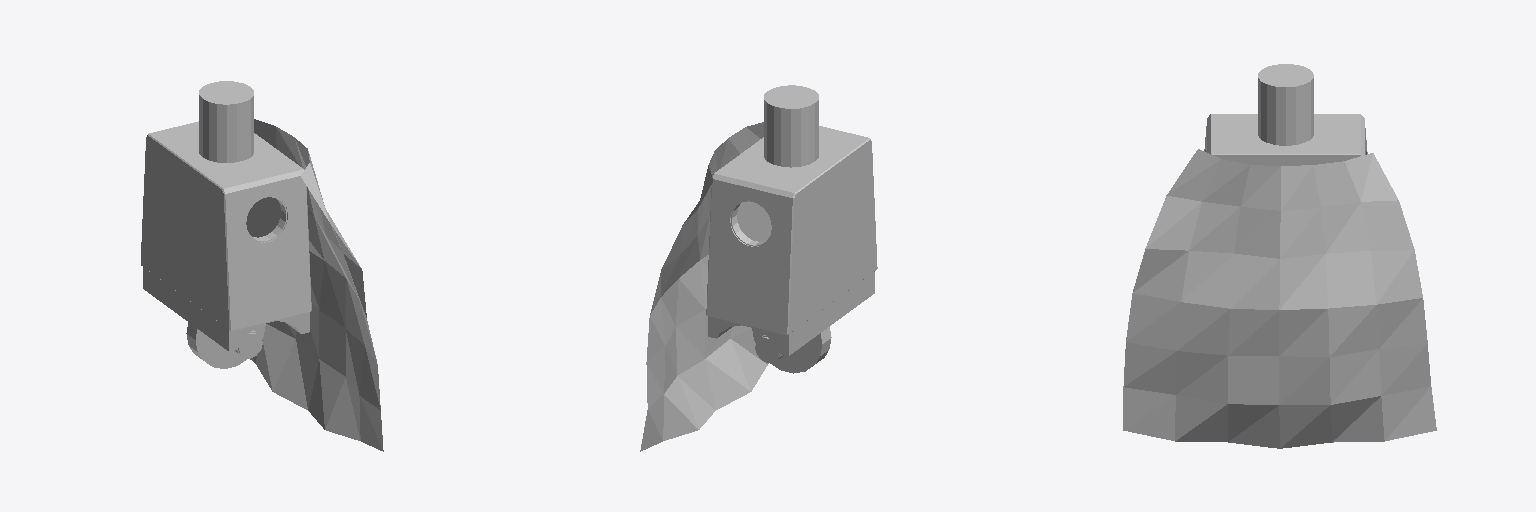
The model's file is LeoDart_body.obj.
The picture shows the model from 3 angles: view 1: azimuth 30°, elevation 25°; view 2: azimuth 150°, elevation 25°; view 3: azimuth 270°, elevation 25°; orthographic projection.
Parts seen in each view (by area): view 1: Box03, Plane01, Box01; view 2: Box03, Plane01, Box01; view 3: Plane01, Box03.
Part boxes in pixels (x1,y1,x2,y2): Box03: (141,81,311,330); Plane01: (250,119,383,451); Box01: (143,267,309,368); Box03: (706,85,877,334); Plane01: (640,122,768,451); Box01: (708,272,874,373); Plane01: (1123,149,1436,448); Box03: (1204,64,1367,165).
Size of the model in its own units: 1.35 by 3.18 by 2.7.